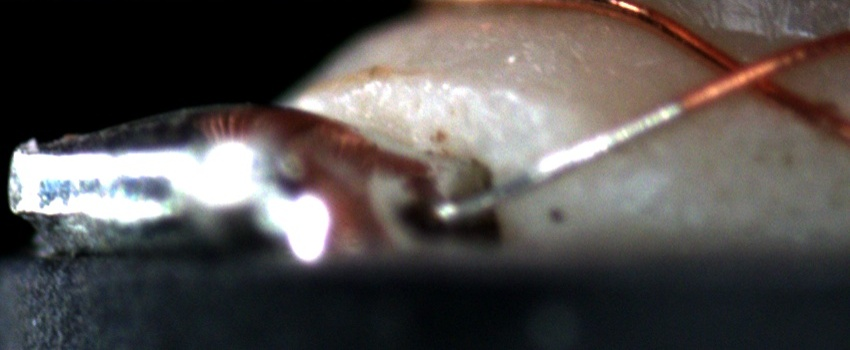CL: (698, 46, 788, 102)
TS: (432, 99, 684, 221)
TTCW: (423, 65, 710, 230)
